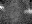person: (25, 7, 31, 12), (1, 6, 7, 10)
